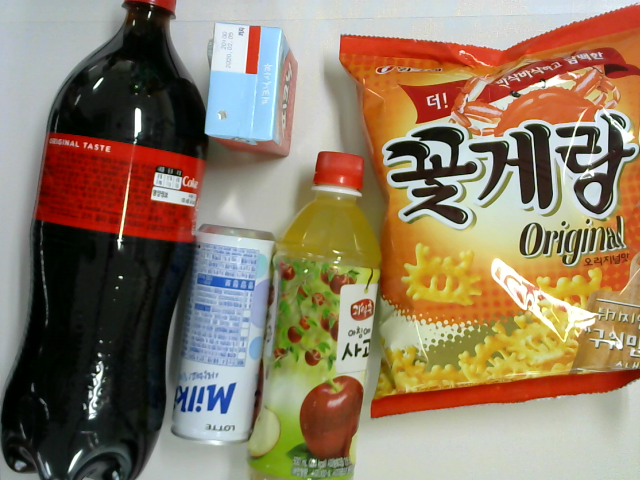Coca_Cola_1.5L: (1, 1, 205, 478)
Crabrang: (341, 3, 640, 419)
Milkies_250ml: (171, 223, 276, 446)
Morning_Apple_500ml: (245, 151, 382, 480)
Picnic_Apple: (205, 23, 299, 159)
